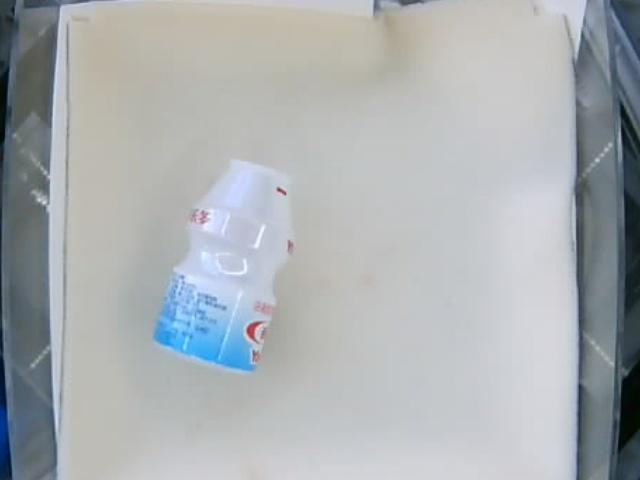Bottle: (155, 157, 295, 375)
